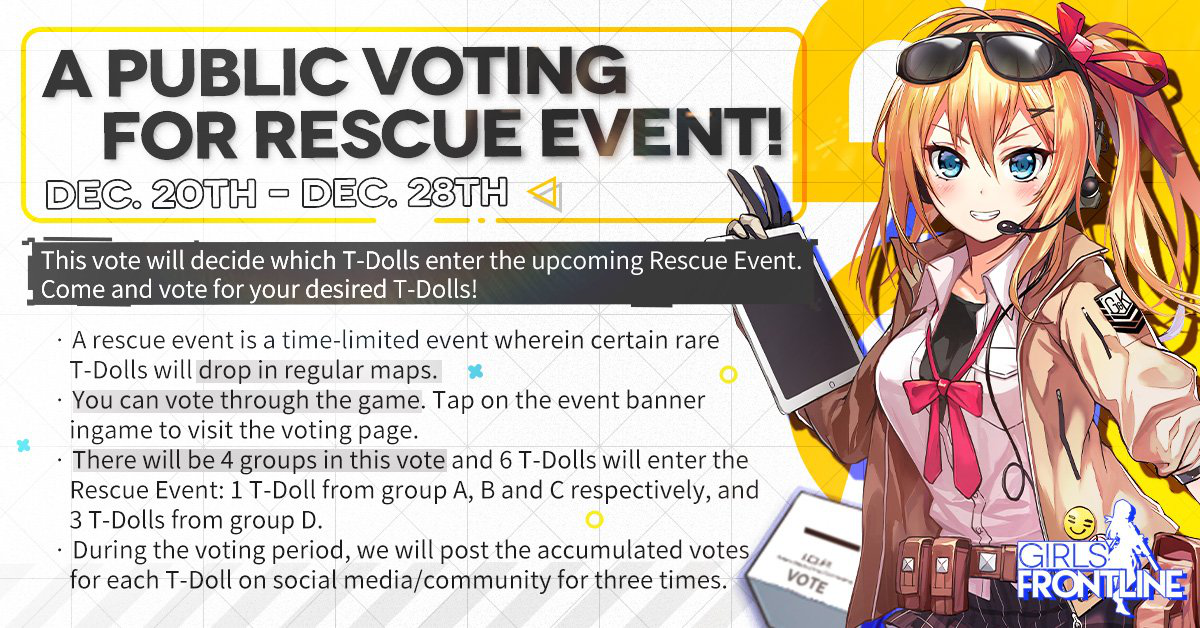latin: (69, 328, 762, 592), (36, 44, 788, 162), (37, 247, 805, 306), (39, 174, 514, 212)
